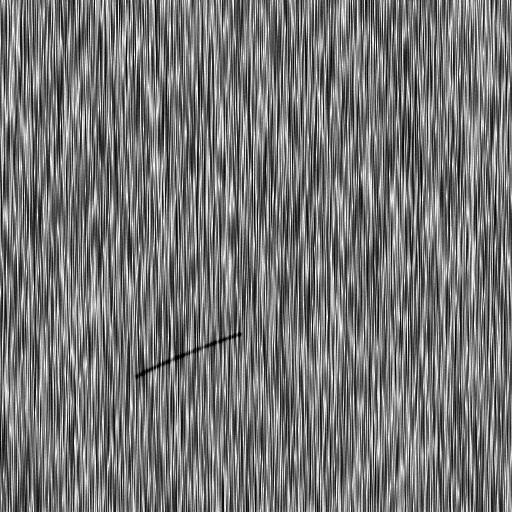DefectTypeC: (139, 328, 244, 381)
